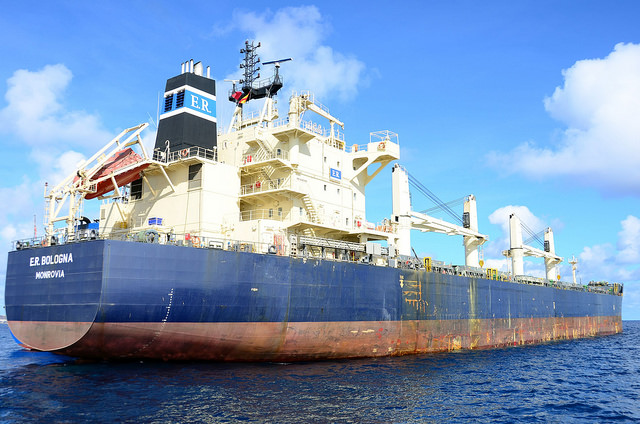bulk carrier: (6, 39, 628, 360)
